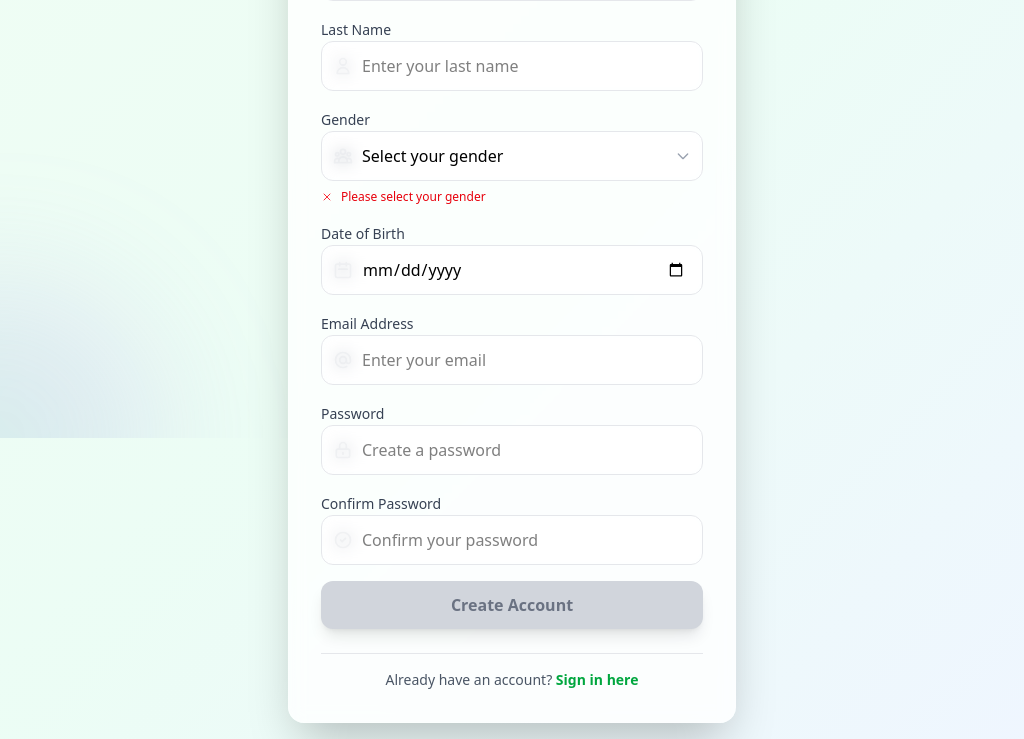
Test: Signup › should validate password strength
This screenshot has width=1024, height=739.
(page scrolled)
// Weak password
In the password field with placeholder "Create a password": (512, 450) [321,425,703,475], type "weak"
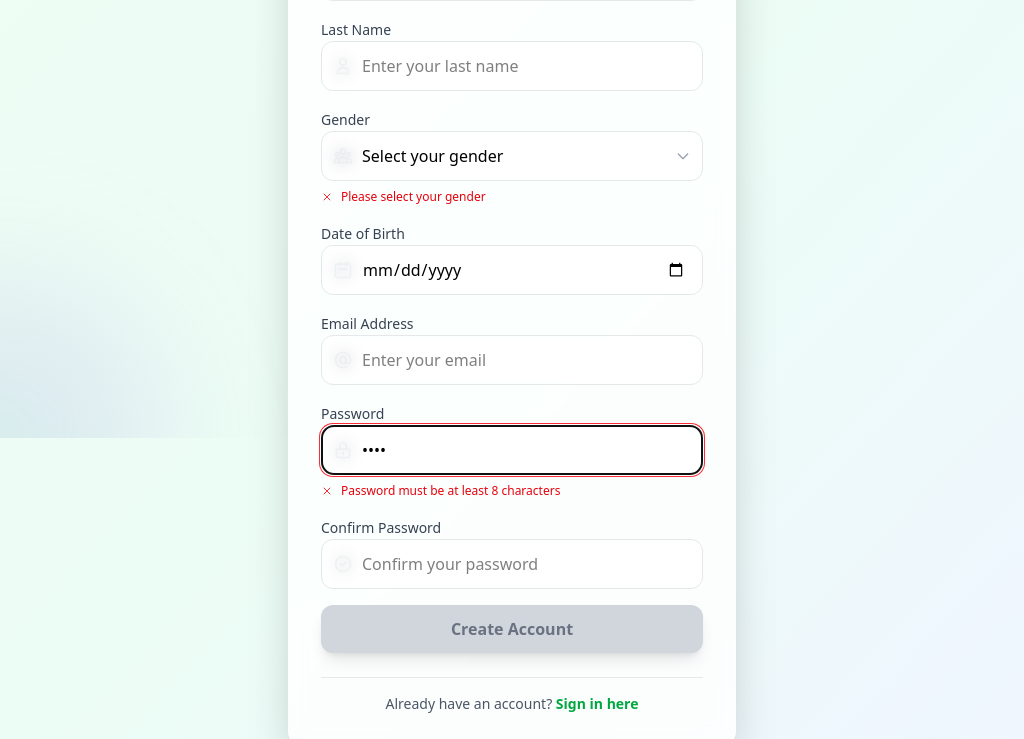
Press Tab
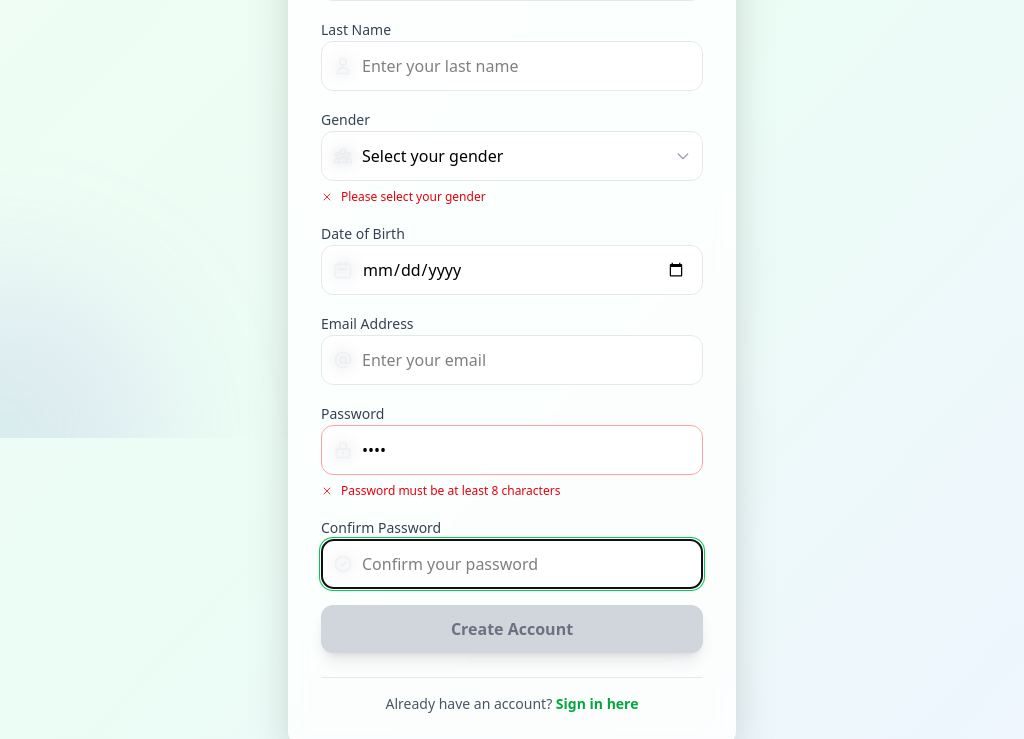
expect the text "Password must be at least 8 characters" is shown: met, box [341,483,560,499]
// Stronger password
In the password field with placeholder "Create a password": (512, 450) [321,425,703,475], type "Password123"
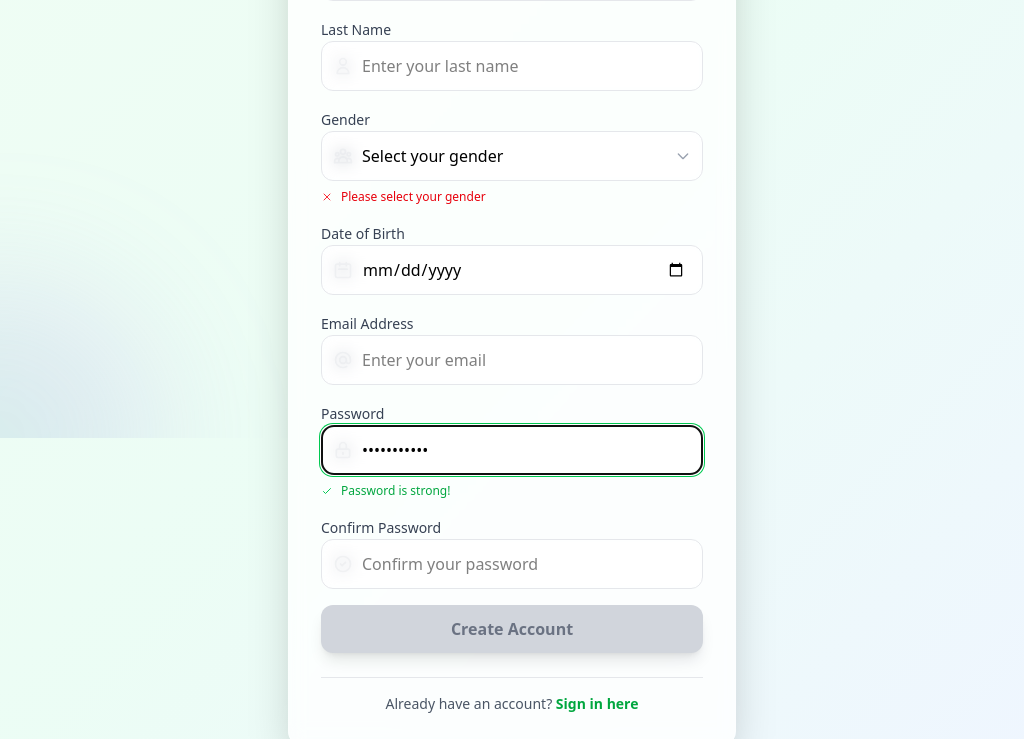
expect the text "Password is strong!" is shown: met, box [341,483,450,499]
